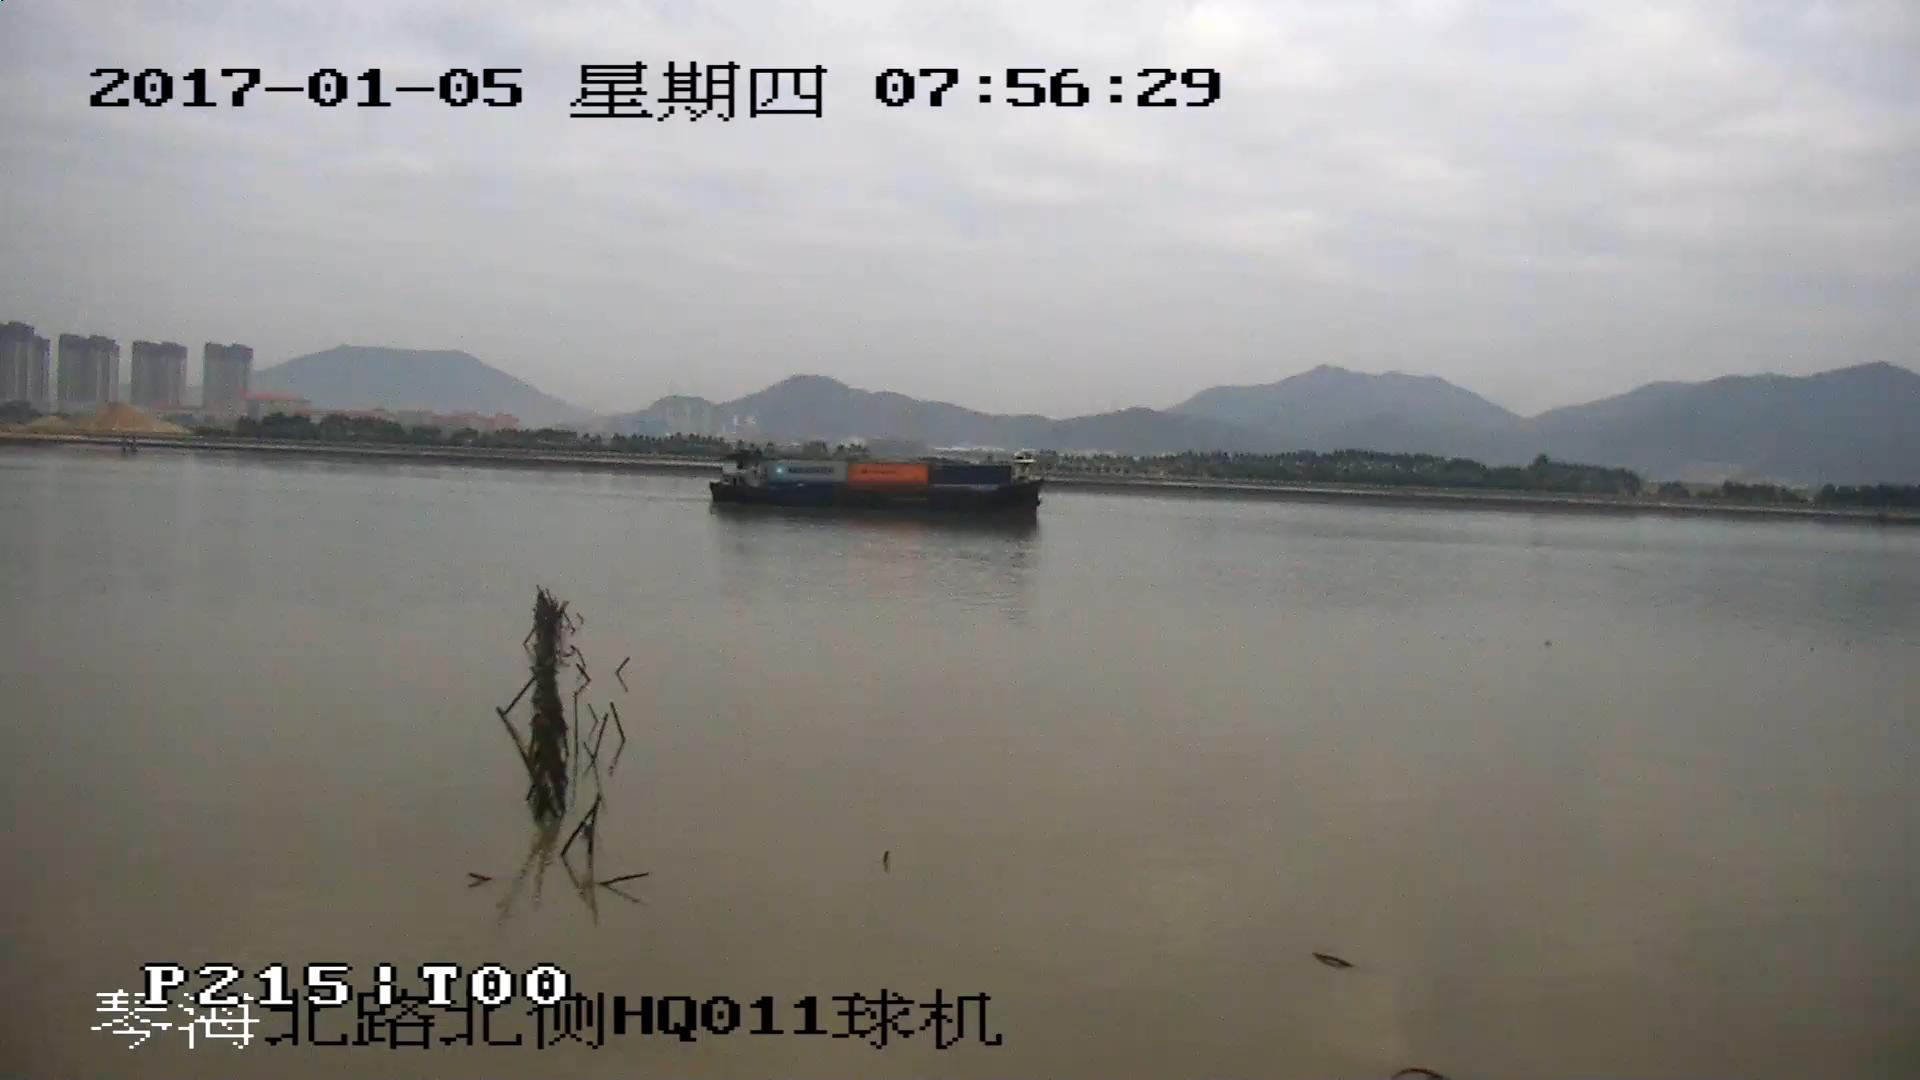container ship: (704, 452, 1041, 524)
